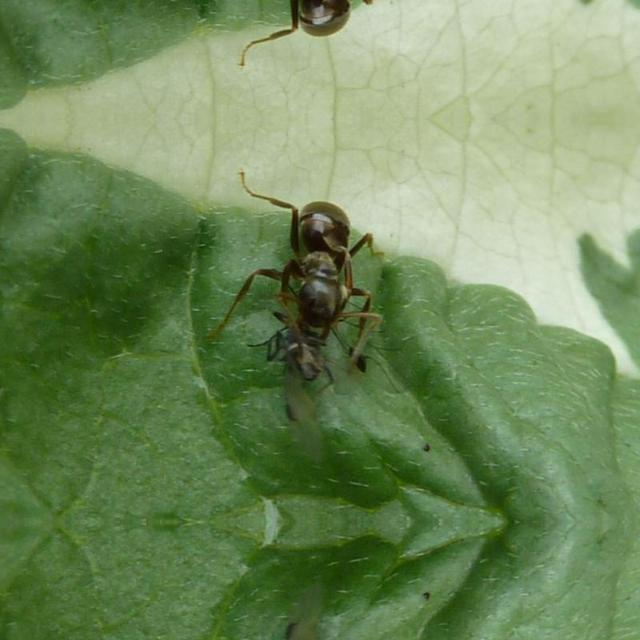Lasius: (246, 170, 390, 362), (246, 0, 390, 66)
